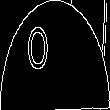O_S: (44, 30, 66, 80)
